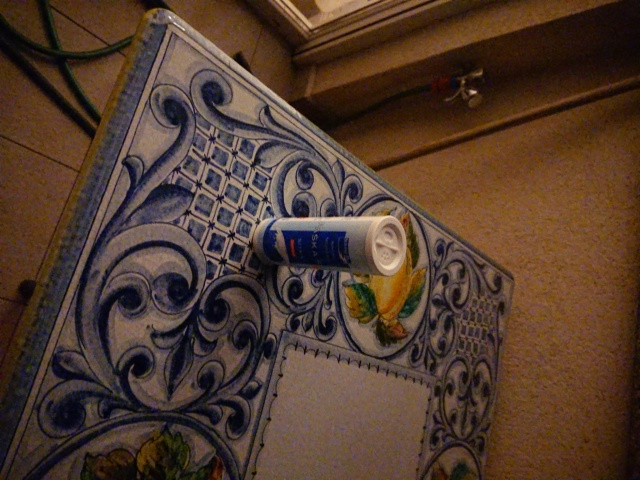Solana Pag Fine Sea Salt 250g: (249, 213, 409, 279)
